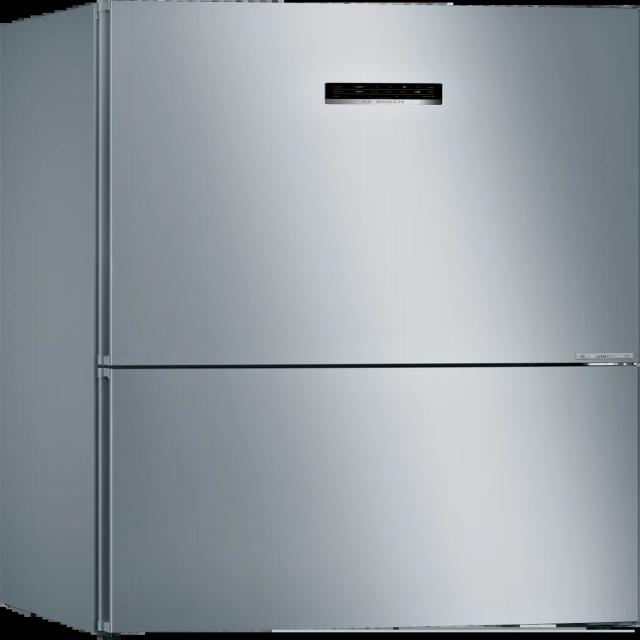refrigerator: (96, 0, 640, 633)
